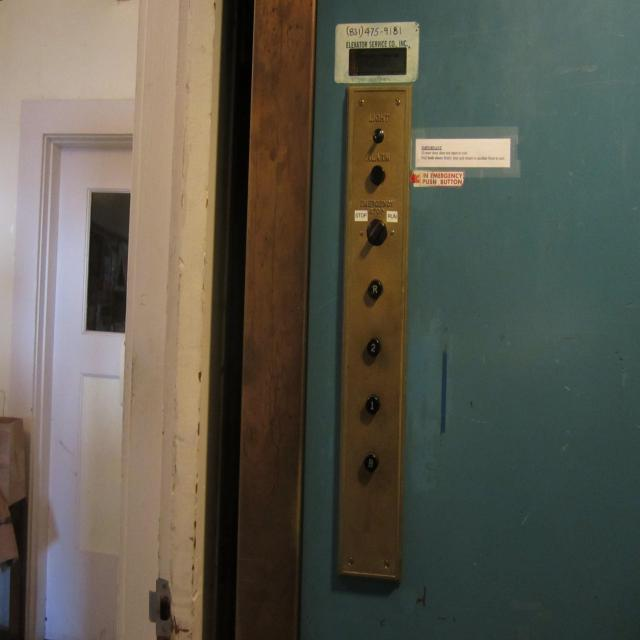1: (364, 393, 381, 417)
2: (365, 336, 381, 360)
B: (363, 450, 379, 474)
R: (367, 276, 383, 300)
empty: (368, 163, 386, 186)
led: (347, 45, 408, 77)
switch: (365, 216, 388, 247)
